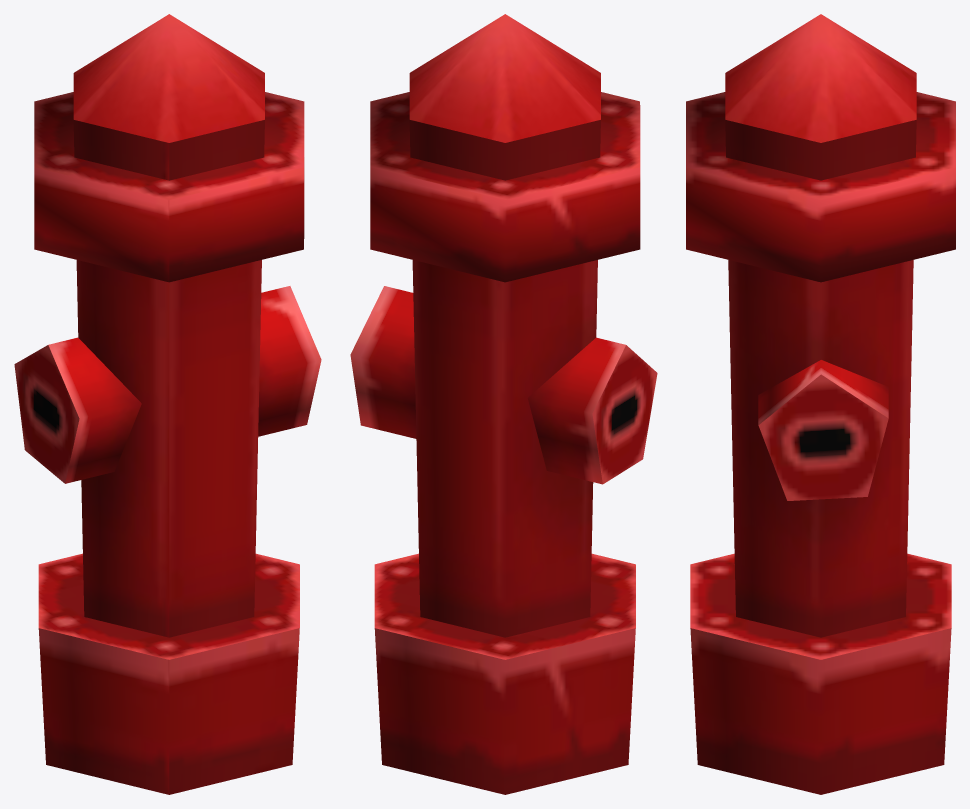
File: SYJ_xiaofang01.FBX
3 views of the same model, side by side, from view 1: azimuth 30°, elevation 25°; view 2: azimuth 150°, elevation 25°; view 3: azimuth 270°, elevation 25° (orthographic).
Parts seen in each view (by area): view 1: SYJ_xiaofang01; view 2: SYJ_xiaofang01; view 3: SYJ_xiaofang01.
Part boxes in pixels (box(x1,y1,x2,y2)): SYJ_xiaofang01: box(14, 14, 321, 794); SYJ_xiaofang01: box(350, 14, 657, 794); SYJ_xiaofang01: box(686, 14, 955, 794).
Bounding box in the file's own units: 16.29 × 41.59 × 14.1.
